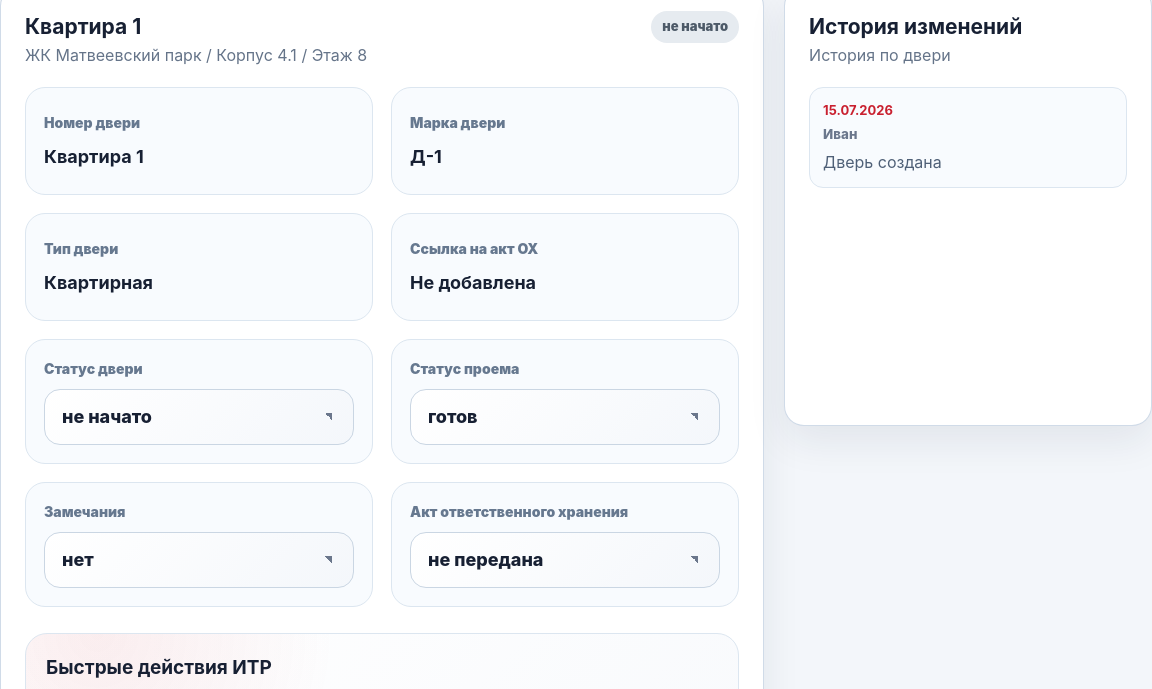
DoorDetails › saves editable workflow fields using the stable door id
The image size is (1152, 689).
Select "смонтирована" in the dropdown labelled "Статус двери" at (199, 416), box [44,388,354,444]
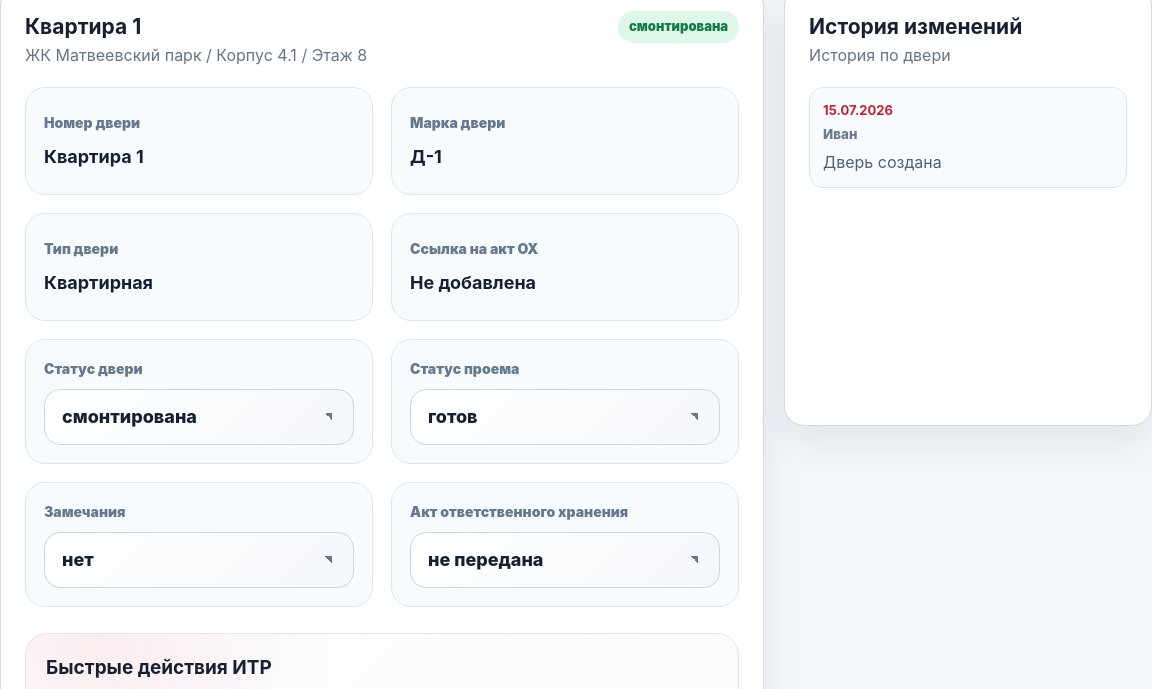
Select "требует корректировки" in the dropdown labelled "Статус проема" at (565, 416), box [410,388,720,444]
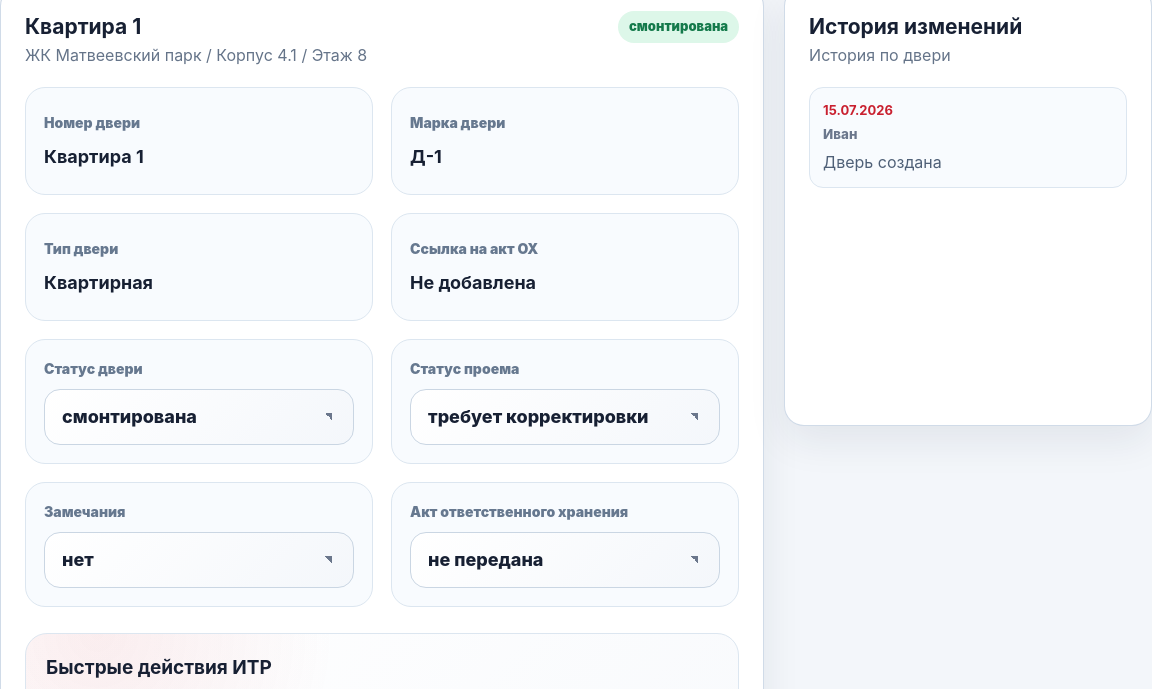
Select "есть замечание" in the dropdown labelled "Замечания" at (199, 560), box [44,532,354,588]
(page scrolled)
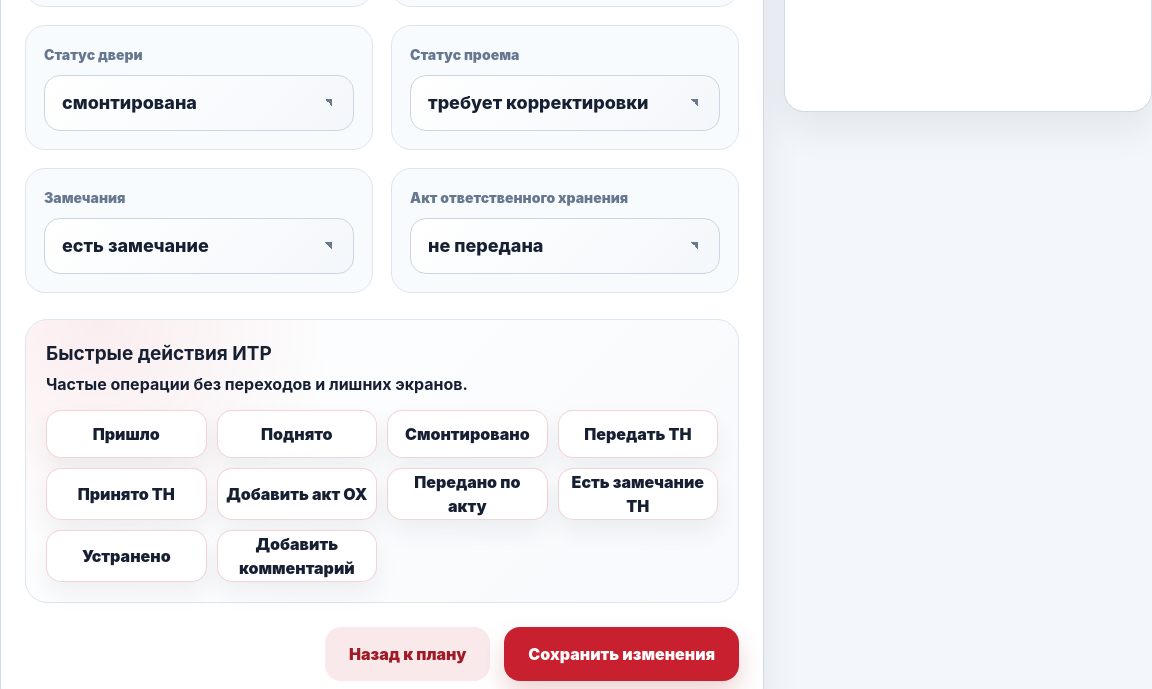
Click the button "Сохранить изменения".
click(622, 654)  # box [504,627,739,681]
(page scrolled)
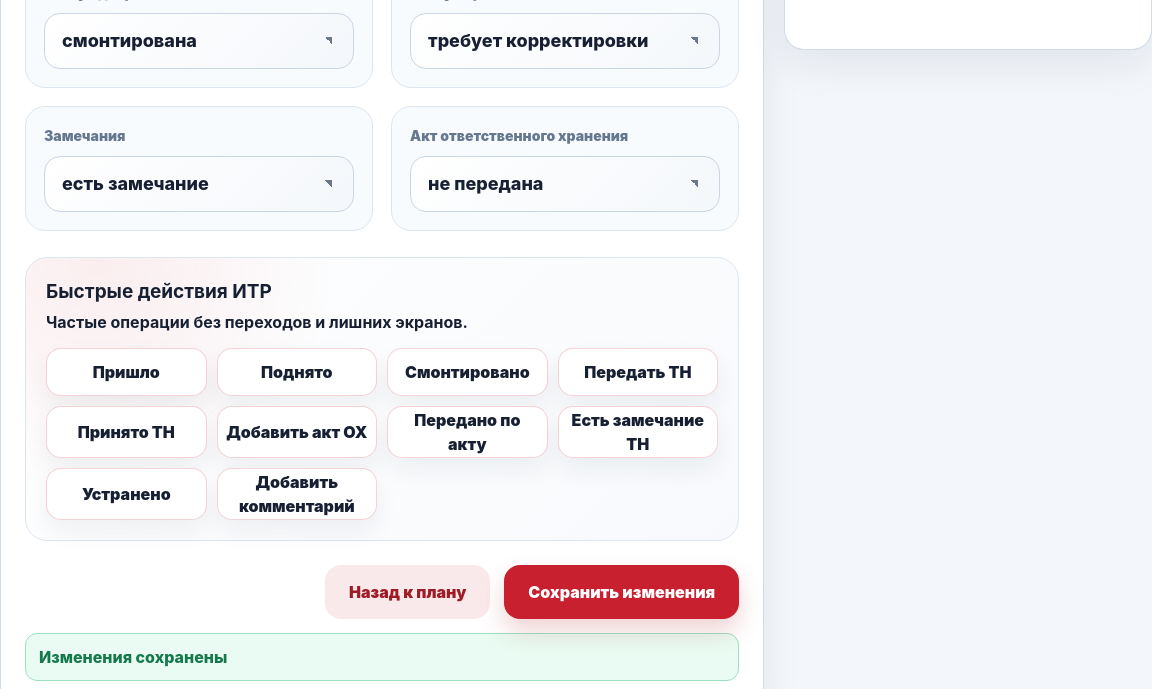
Expected: the text "Изменения сохранены" is shown, [25,633,739,681]
